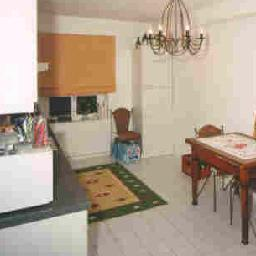Armario: (142, 46, 191, 152)
